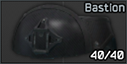Bastion helmet armor plate: (0, 0, 127, 64)
